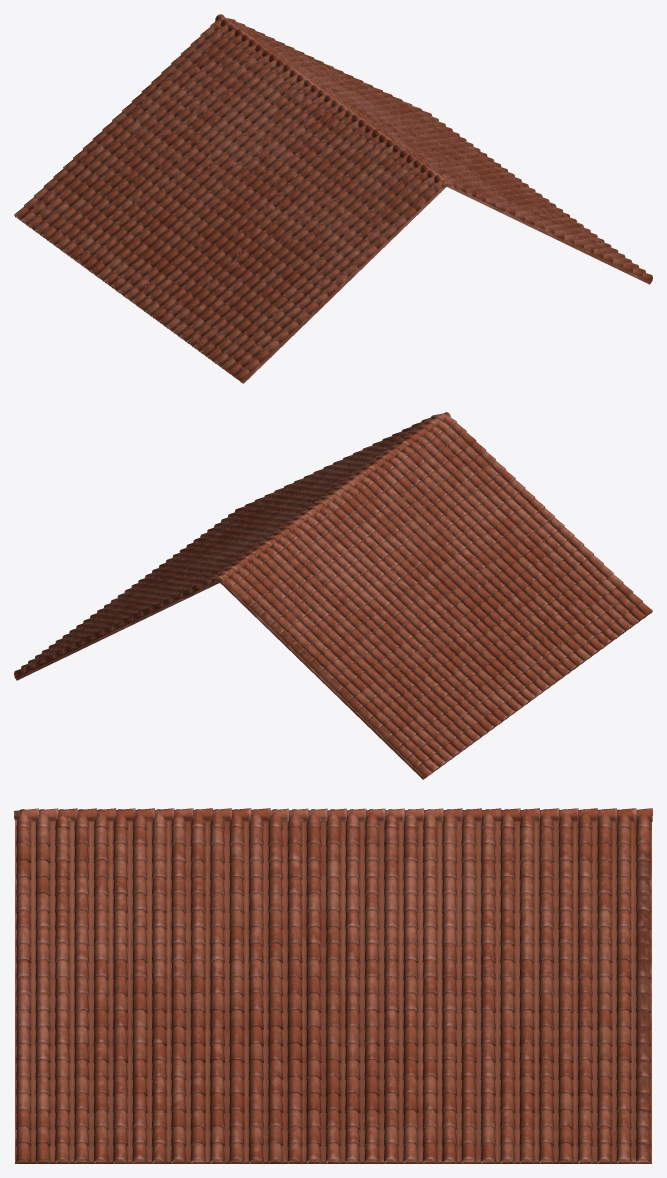
Rendered from SM_Roof_B_Double.fbx.
3 renders of one model, top to bottom at view 1: azimuth 30°, elevation 25°; view 2: azimuth 150°, elevation 25°; view 3: azimuth 270°, elevation 25°, orthographic. The views are drawn at different scales.
Visible parts, largest first — view 1: SM_Roof_B_Double_LOD0; view 2: SM_Roof_B_Double_LOD0; view 3: SM_Roof_B_Double_LOD0.
Part boxes in pixels (left/top/right/bottom): SM_Roof_B_Double_LOD0: left=14, top=14, right=652, bottom=383; SM_Roof_B_Double_LOD0: left=14, top=412, right=652, bottom=779; SM_Roof_B_Double_LOD0: left=14, top=808, right=652, bottom=1163.
Bounding box in the file's own units: 1402 × 1328 × 495.
Materials: 1 (1 with a texture image).
